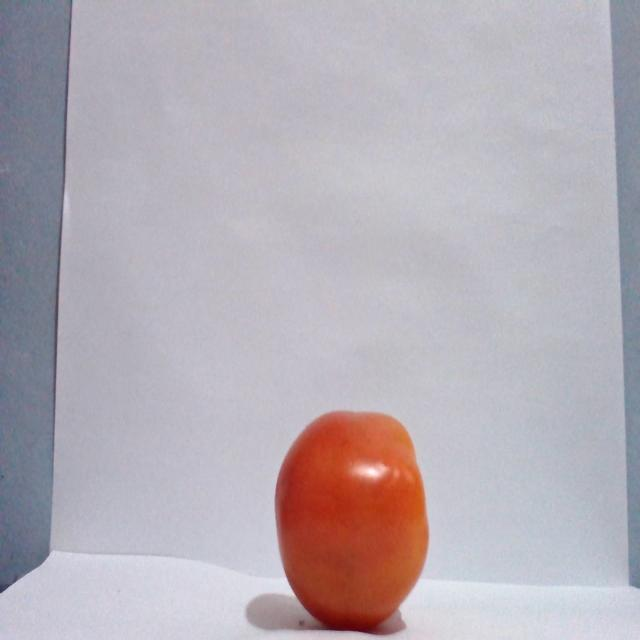Red: (272, 408, 430, 630)
